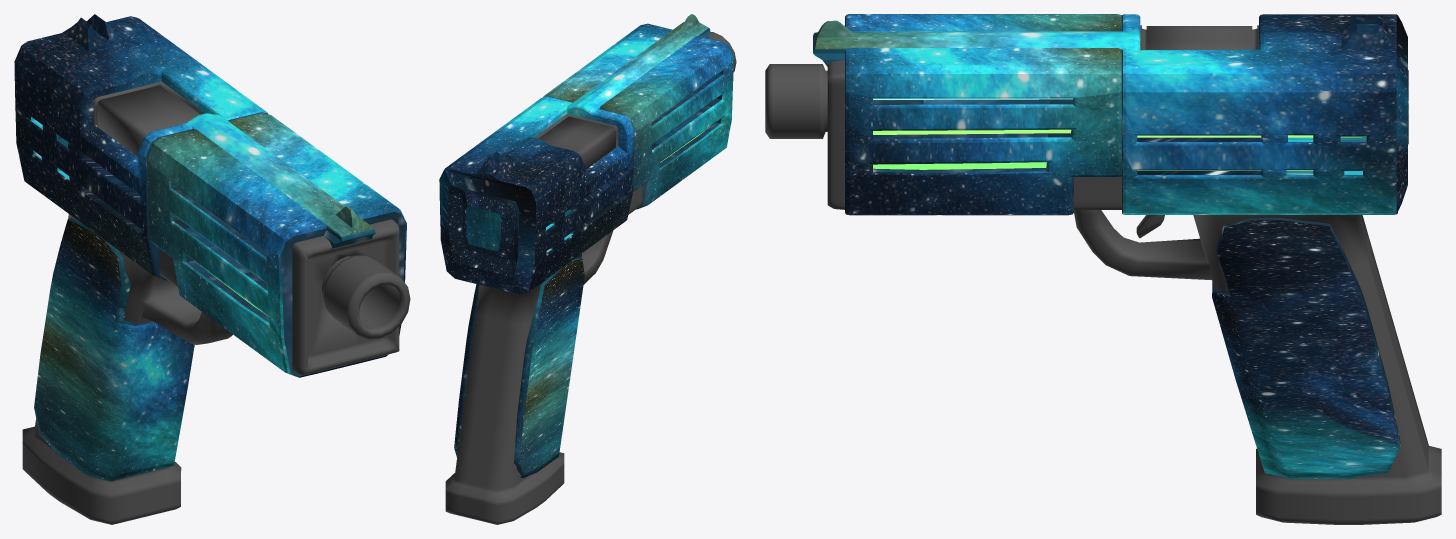
Rendered from space_gun.fbx.
3 renders of one model, left to right at view 1: azimuth 30°, elevation 25°; view 2: azimuth 150°, elevation 25°; view 3: azimuth 270°, elevation 25°, orthographic. The views are drawn at different scales.
Parts seen in each view (by area): view 1: skin1.2, skin1, skin1.3, space_gun, Cylinder; view 2: skin1.2, space_gun, skin1, skin1.3; view 3: skin1.2, skin1, skin1.3, space_gun, Cylinder, em2, em3.
Part boxes in pixels (x1=…): skin1.2: x1=14, y1=14, x2=375, y2=280; skin1: x1=146, y1=113, x2=406, y2=377; skin1.3: x1=34, y1=218, x2=194, y2=481; space_gun: x1=22, y1=81, x2=399, y2=524; Cylinder: x1=321, y1=255, x2=410, y2=339; skin1.2: x1=439, y1=14, x2=710, y2=294; space_gun: x1=445, y1=114, x2=642, y2=524; skin1: x1=543, y1=23, x2=733, y2=209; skin1.3: x1=454, y1=258, x2=584, y2=477; skin1.2: x1=813, y1=14, x2=1408, y2=214; skin1: x1=845, y1=14, x2=1122, y2=215; skin1.3: x1=1212, y1=218, x2=1400, y2=478; space_gun: x1=827, y1=25, x2=1441, y2=524; Cylinder: x1=765, y1=64, x2=827, y2=138; em2: x1=873, y1=129, x2=1366, y2=137; em3: x1=873, y1=162, x2=1313, y2=170.
Bounding box in the file's own units: 1.18 × 3.96 × 5.05.
